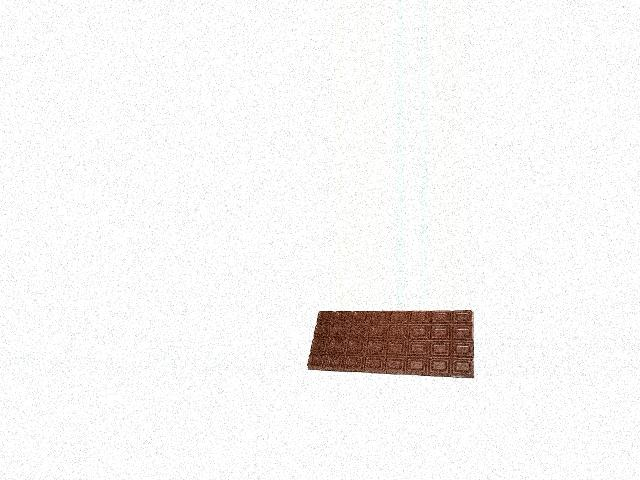chocolate: (305, 310, 475, 376)
